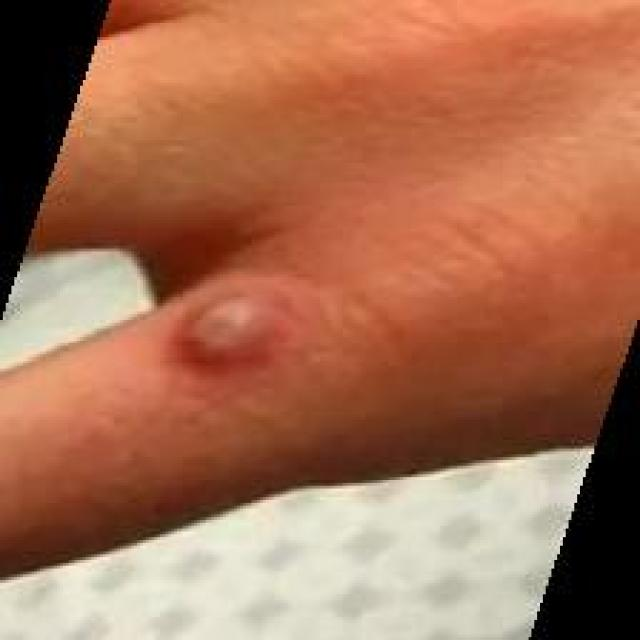monkeypox: (92, 65, 419, 485)
